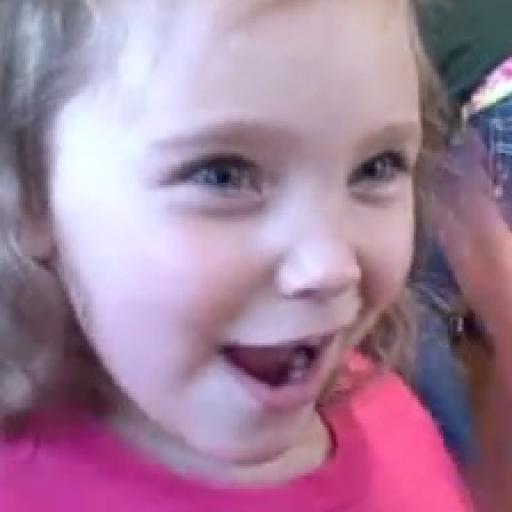Autism: (0, 0, 443, 489)
